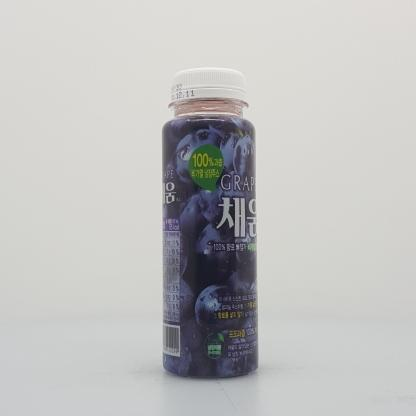---------210ML: (161, 68, 258, 378)
